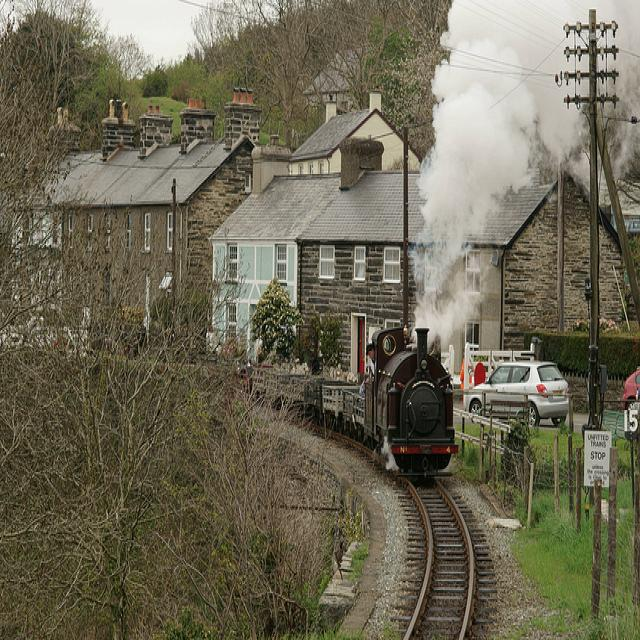Vehicle: (462, 362, 568, 428), (621, 367, 640, 411)
